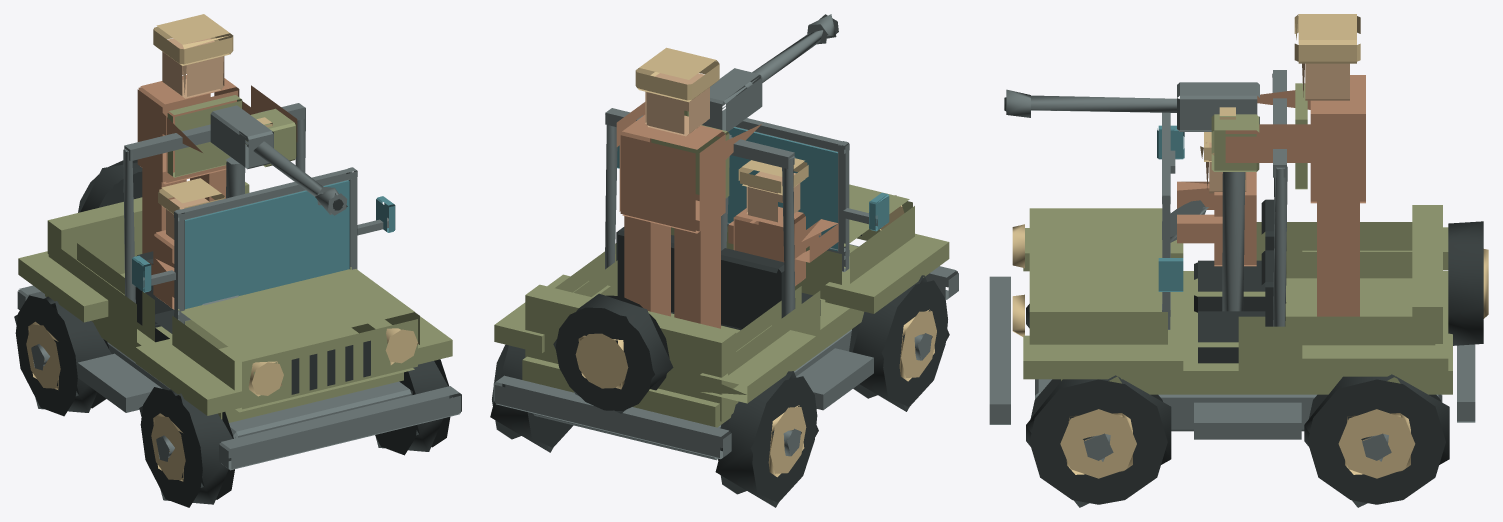
File: scout-jeep.glb
The picture shows the model from 3 angles, left to right: view 1: azimuth 30°, elevation 25°; view 2: azimuth 150°, elevation 25°; view 3: azimuth 270°, elevation 25°; orthographic projection. The views are drawn at different scales.
Visible parts, largest first — view 1: Floor, Chassis, Mirror, Gunner leg, Tire, Tire.001, Gun pedestal, Seat cushion, Gunner vest, Headlight, Gunner helmet, Tire.002 (+4 smaller); view 2: Floor, Gunner leg, Chassis, Seat cushion, Tire.001, Tire, Mirror, Gun pedestal, Driver torso, Headlight, Gunner helmet, Tire.003 (+5 smaller); view 3: Floor, Chassis, Gunner leg, Tire.002, Tire.003, Seat cushion, Gun pedestal, Driver torso, Rim.003, Rim.002, Gunner helmet, Gunner vest (+5 smaller).
Part boxes in pixels (box(x1,y1,x2,y2)): Floor: box(18, 182, 452, 422); Chassis: box(17, 103, 461, 470); Mirror: box(132, 180, 395, 309); Gunner leg: box(137, 75, 297, 253); Tire: box(139, 387, 234, 507); Tire.001: box(14, 295, 111, 416); Gun pedestal: box(210, 105, 347, 215); Seat cushion: box(78, 159, 370, 394); Gunner vest: box(167, 95, 296, 177); Headlight: box(158, 178, 418, 396); Gunner helmet: box(153, 14, 272, 127); Tire.002: box(375, 359, 452, 455); Floor: box(494, 184, 949, 427); Gunner leg: box(616, 102, 761, 328); Chassis: box(493, 108, 958, 460); Seat cushion: box(553, 227, 861, 413); Tire.001: box(715, 371, 818, 507); Tire: box(849, 275, 949, 411); Mirror: box(617, 127, 889, 251); Gun pedestal: box(702, 14, 838, 250); Driver torso: box(728, 206, 838, 285); Headlight: box(575, 158, 904, 389); Gunner helmet: box(635, 47, 719, 102); Tire.003: box(490, 344, 573, 452); Floor: box(1023, 205, 1452, 394); Chassis: box(989, 70, 1475, 439); Gunner leg: box(1225, 75, 1365, 316); Tire.002: box(1026, 375, 1171, 507); Tire.003: box(1304, 374, 1449, 507); Seat cushion: box(1194, 199, 1483, 363); Gun pedestal: box(1006, 82, 1259, 311); Driver torso: box(1177, 172, 1256, 266); Rim.003: box(1338, 409, 1415, 478); Rim.002: box(1060, 409, 1136, 478); Gunner helmet: box(1219, 14, 1360, 119); Gunner vest: box(1211, 83, 1307, 189).
Size of the model in its own units: 2.23 by 2.97 by 3.26.
